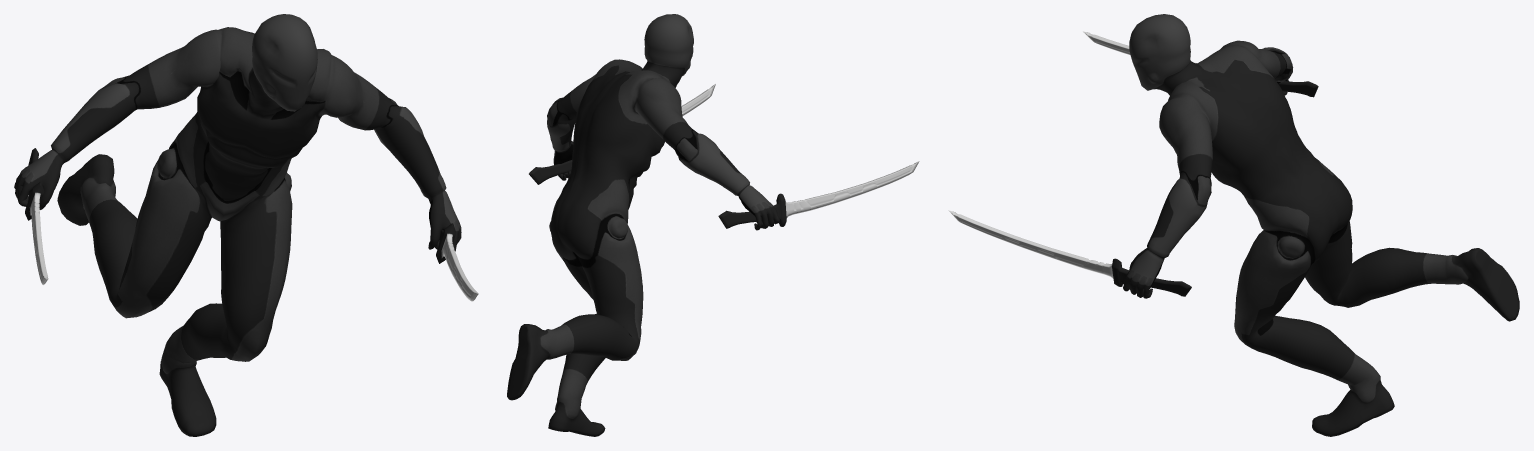
3 renders of one model, left to right at view 1: azimuth 30°, elevation 25°; view 2: azimuth 150°, elevation 25°; view 3: azimuth 270°, elevation 25°, orthographic. The views are drawn at different scales.
Visible parts, largest first — view 1: Cyborg_Ninja_Killer, Sword_l001, Sword_l; view 2: Cyborg_Ninja_Killer, Sword_l001, Sword_l; view 3: Cyborg_Ninja_Killer, Sword_l, Sword_l001.
Boxes of the visible parts, bbox=[...] form: Cyborg_Ninja_Killer: bbox=[14, 14, 461, 436]; Sword_l001: bbox=[25, 148, 48, 284]; Sword_l: bbox=[436, 223, 478, 301]; Cyborg_Ninja_Killer: bbox=[507, 14, 779, 436]; Sword_l001: bbox=[718, 161, 919, 228]; Sword_l: bbox=[529, 84, 715, 184]; Cyborg_Ninja_Killer: bbox=[1123, 14, 1519, 436]; Sword_l: bbox=[948, 210, 1191, 296]; Sword_l001: bbox=[1083, 31, 1318, 97].
Bounding box in the file's own units: 148 × 151 × 191.
2 materials, 2 textured.
